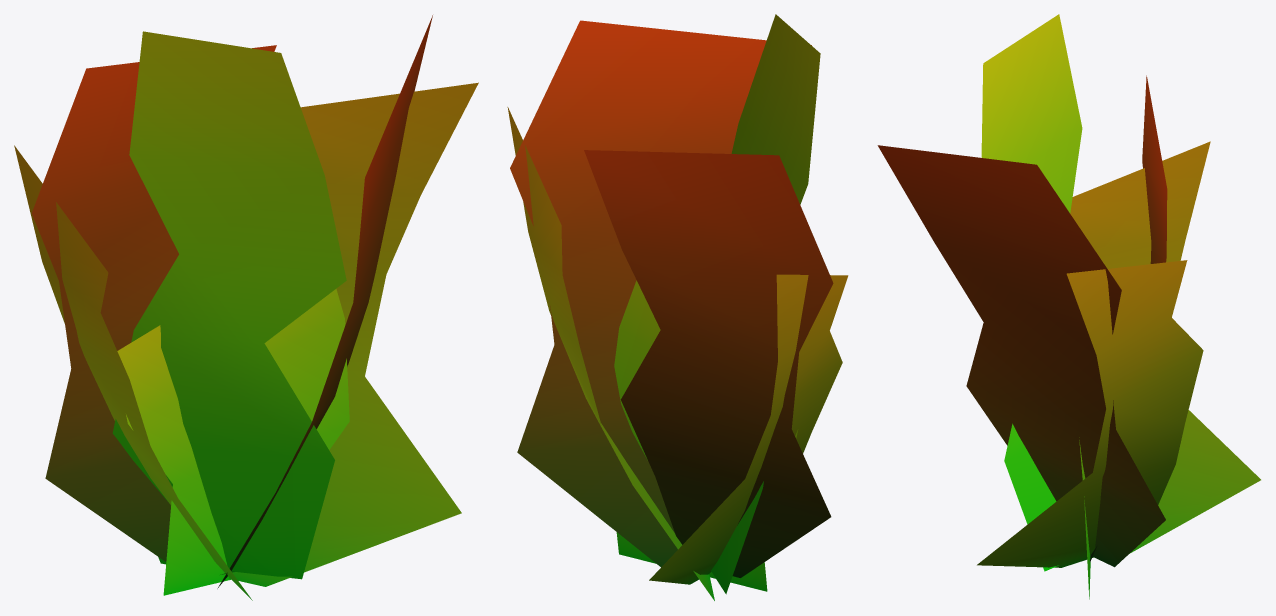
Rendered from Var8Hi26.fbx.
3 views of the same model, side by side, from view 1: azimuth 30°, elevation 25°; view 2: azimuth 150°, elevation 25°; view 3: azimuth 270°, elevation 25° (orthographic). The views are drawn at different scales.
Parts seen in each view (by area): view 1: bend1; view 2: bend1; view 3: bend1.
Boxes of the visible parts, box(x1,y1,x2,y2) form: bend1: box(14, 15, 478, 600); bend1: box(507, 14, 848, 600); bend1: box(877, 14, 1260, 599).
Size of the model in its own units: 1.26 by 1.76 by 1.22.
